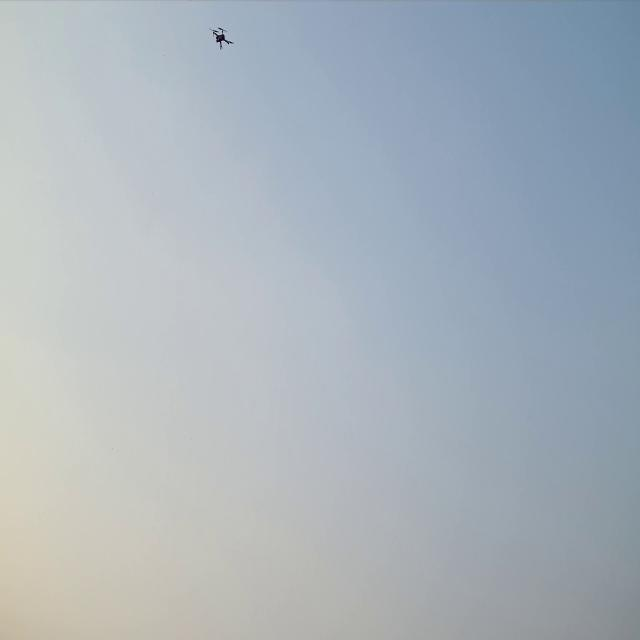UAV: (208, 24, 236, 52)
